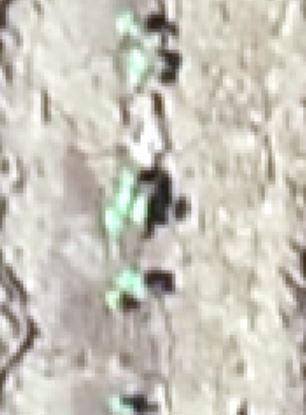cotton: (115, 188, 149, 219), (120, 272, 145, 300), (127, 49, 148, 81), (104, 208, 124, 238), (119, 13, 144, 36), (108, 292, 124, 312)
